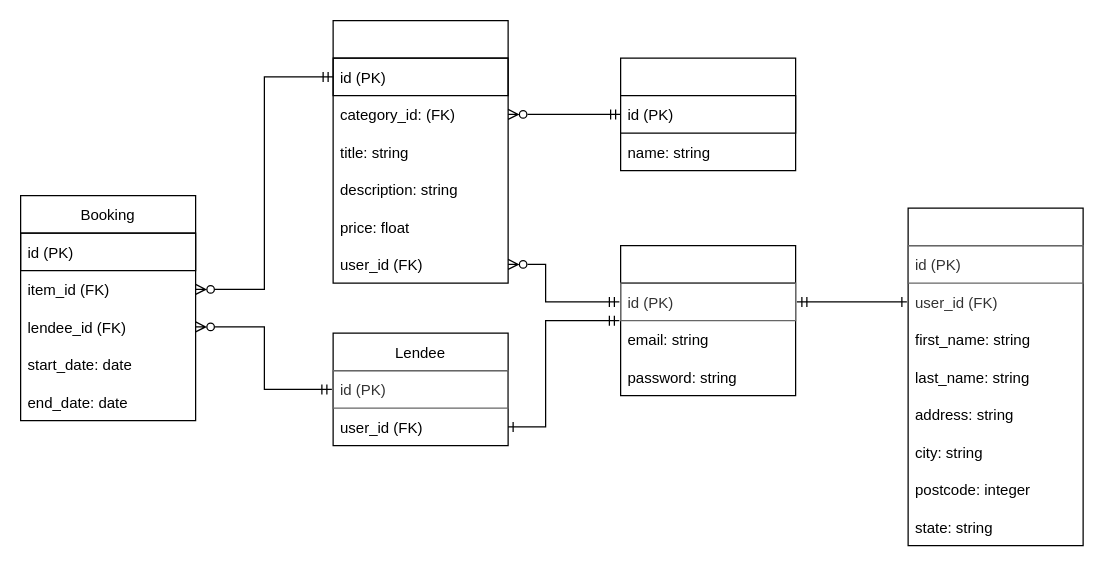
The diagram is 1104 pixels wide and 566 high, and some of its shapes have lost their labels. The shapes that lost their labels are listed below. From the top down, each one's box as (x1, y1, x2, y2) in pixels, then its label:
(619, 57, 796, 171): Category
(332, 19, 508, 283): Item
(619, 244, 796, 396): User
(907, 207, 1083, 546): Profile
